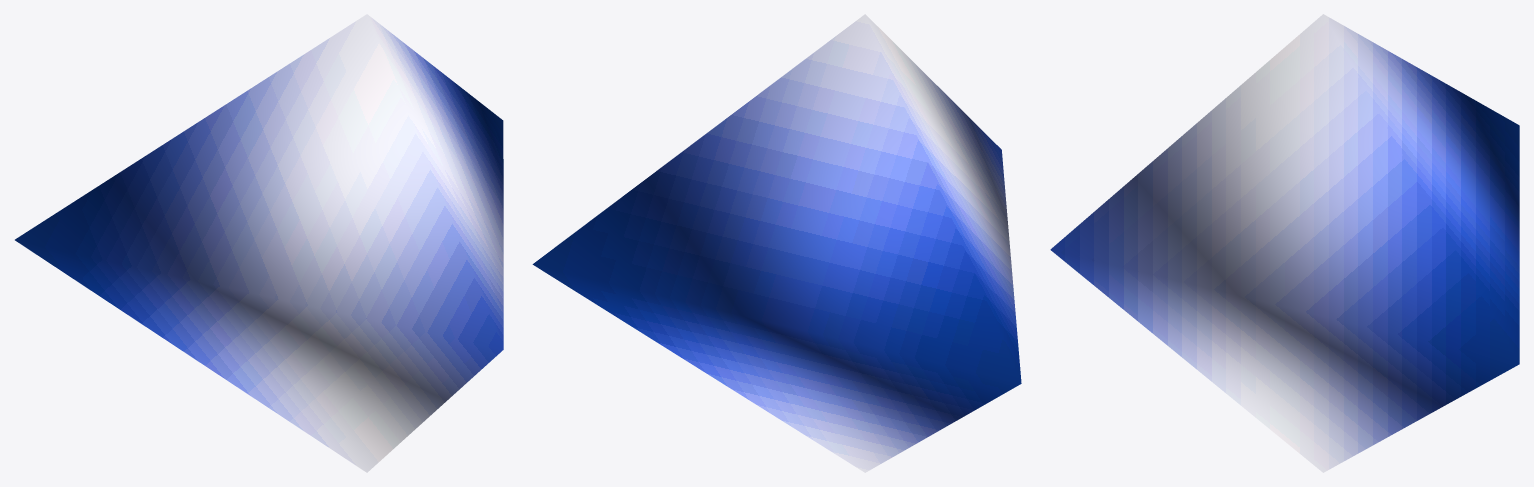
3 renders of one model, left to right at view 1: azimuth 30°, elevation 25°; view 2: azimuth 150°, elevation 25°; view 3: azimuth 270°, elevation 25°, orthographic.
Parts seen in each view (by area): view 1: 8b59ef96; view 2: 8b59ef96; view 3: 8b59ef96.
Boxes of the visible parts, box(x1,y1,x2,y2) form: 8b59ef96: box(15, 14, 503, 472); 8b59ef96: box(532, 14, 1021, 472); 8b59ef96: box(1050, 14, 1519, 472).
Size of the model in its own units: 2.35 by 2.11 by 1.95.
1 material, 1 textured.
